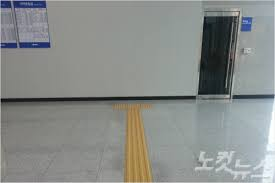guide_blocks: (126, 111, 151, 183), (113, 102, 150, 110)
